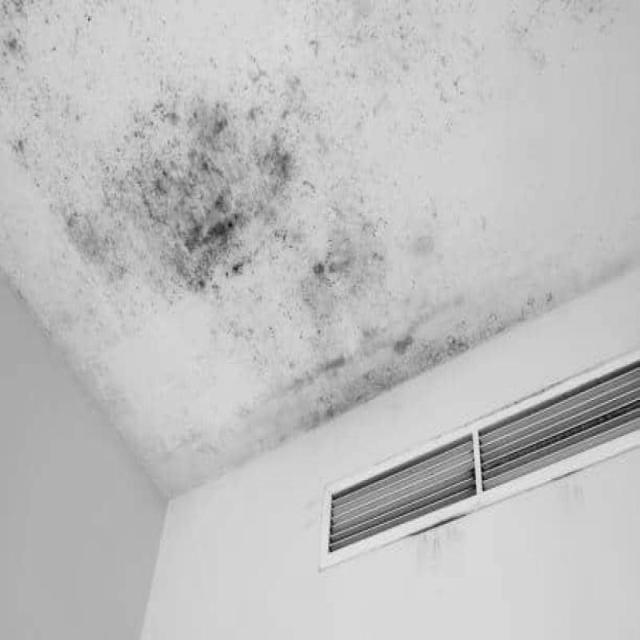stain marks: (0, 0, 557, 498)
